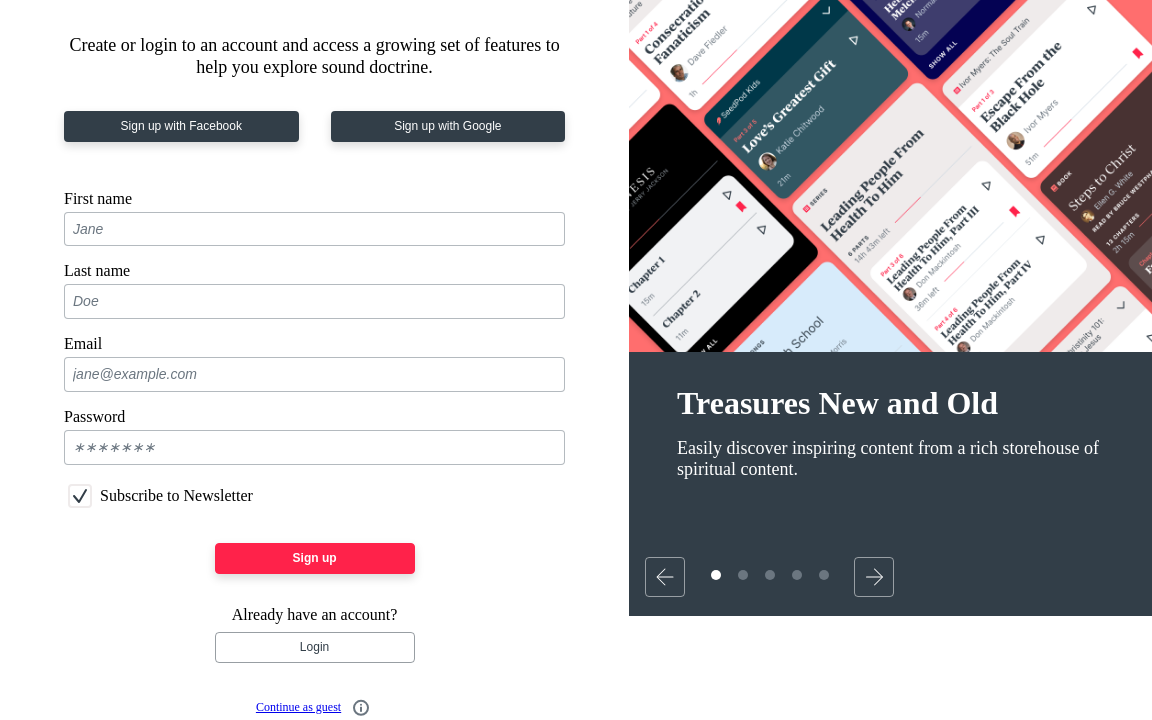
Scenario: register page › pops modal on guest info click
(page scrolled)
Click the button with test id "guest-info-button": point(357, 707) [341,695,373,719]
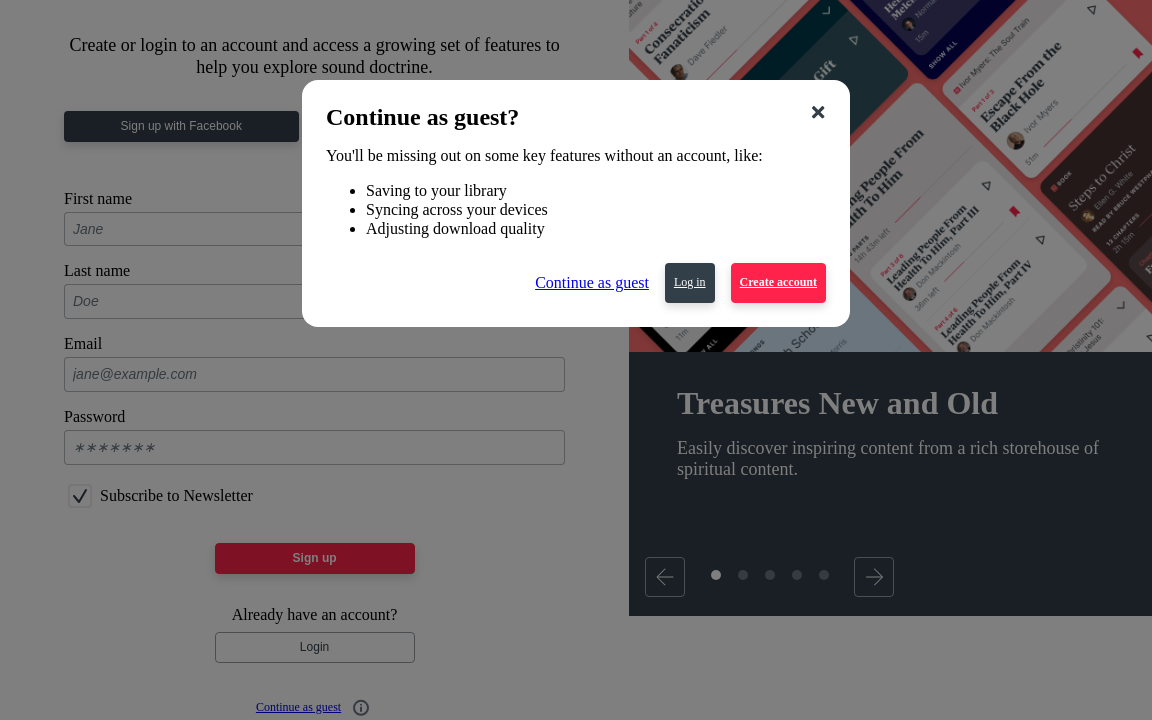
expect the heading "Continue as guest?" is shown: met, box [326,104,519,130]
